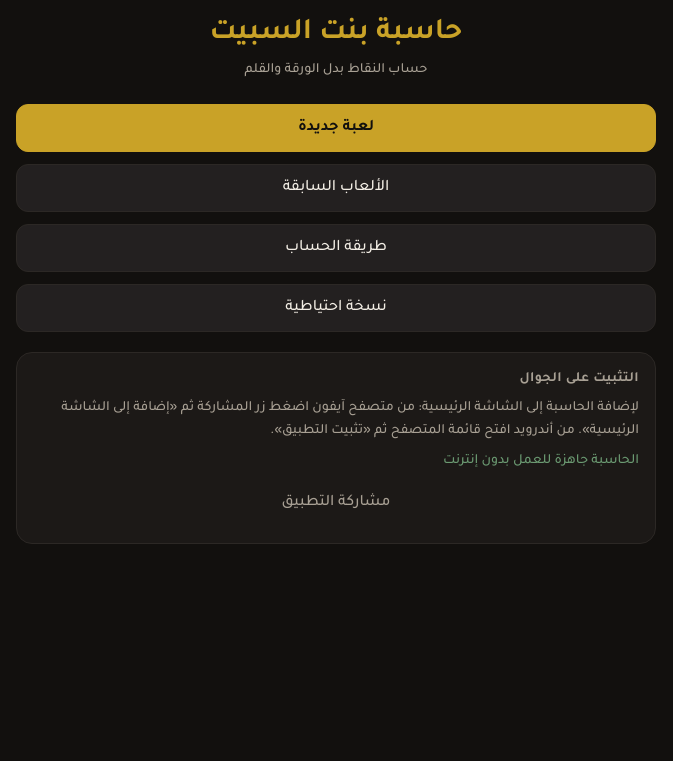
Test: help and offline copy › explains the rules and the backup in Arabic
Click the button "طريقة الحساب". click: coordinates (336, 248)
box: x1=16 y1=224 x2=656 y2=272
(page scrolled)
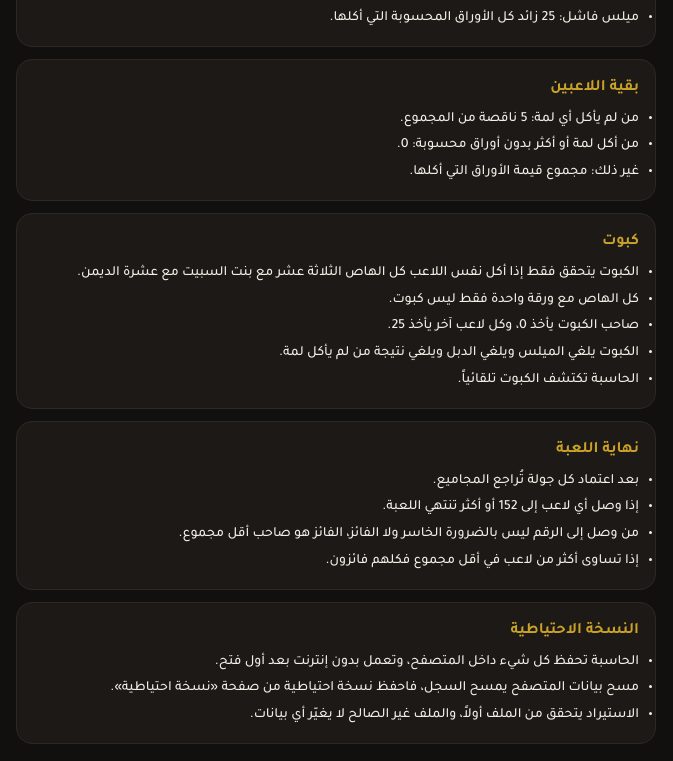
Expected: the heading "كبوت" is shown, x1=602 y1=234 x2=639 y2=250
Expected: the list item "الحاسبة تحفظ كل شيء داخل المتصفح" is shown, x1=215 y1=654 x2=639 y2=668
